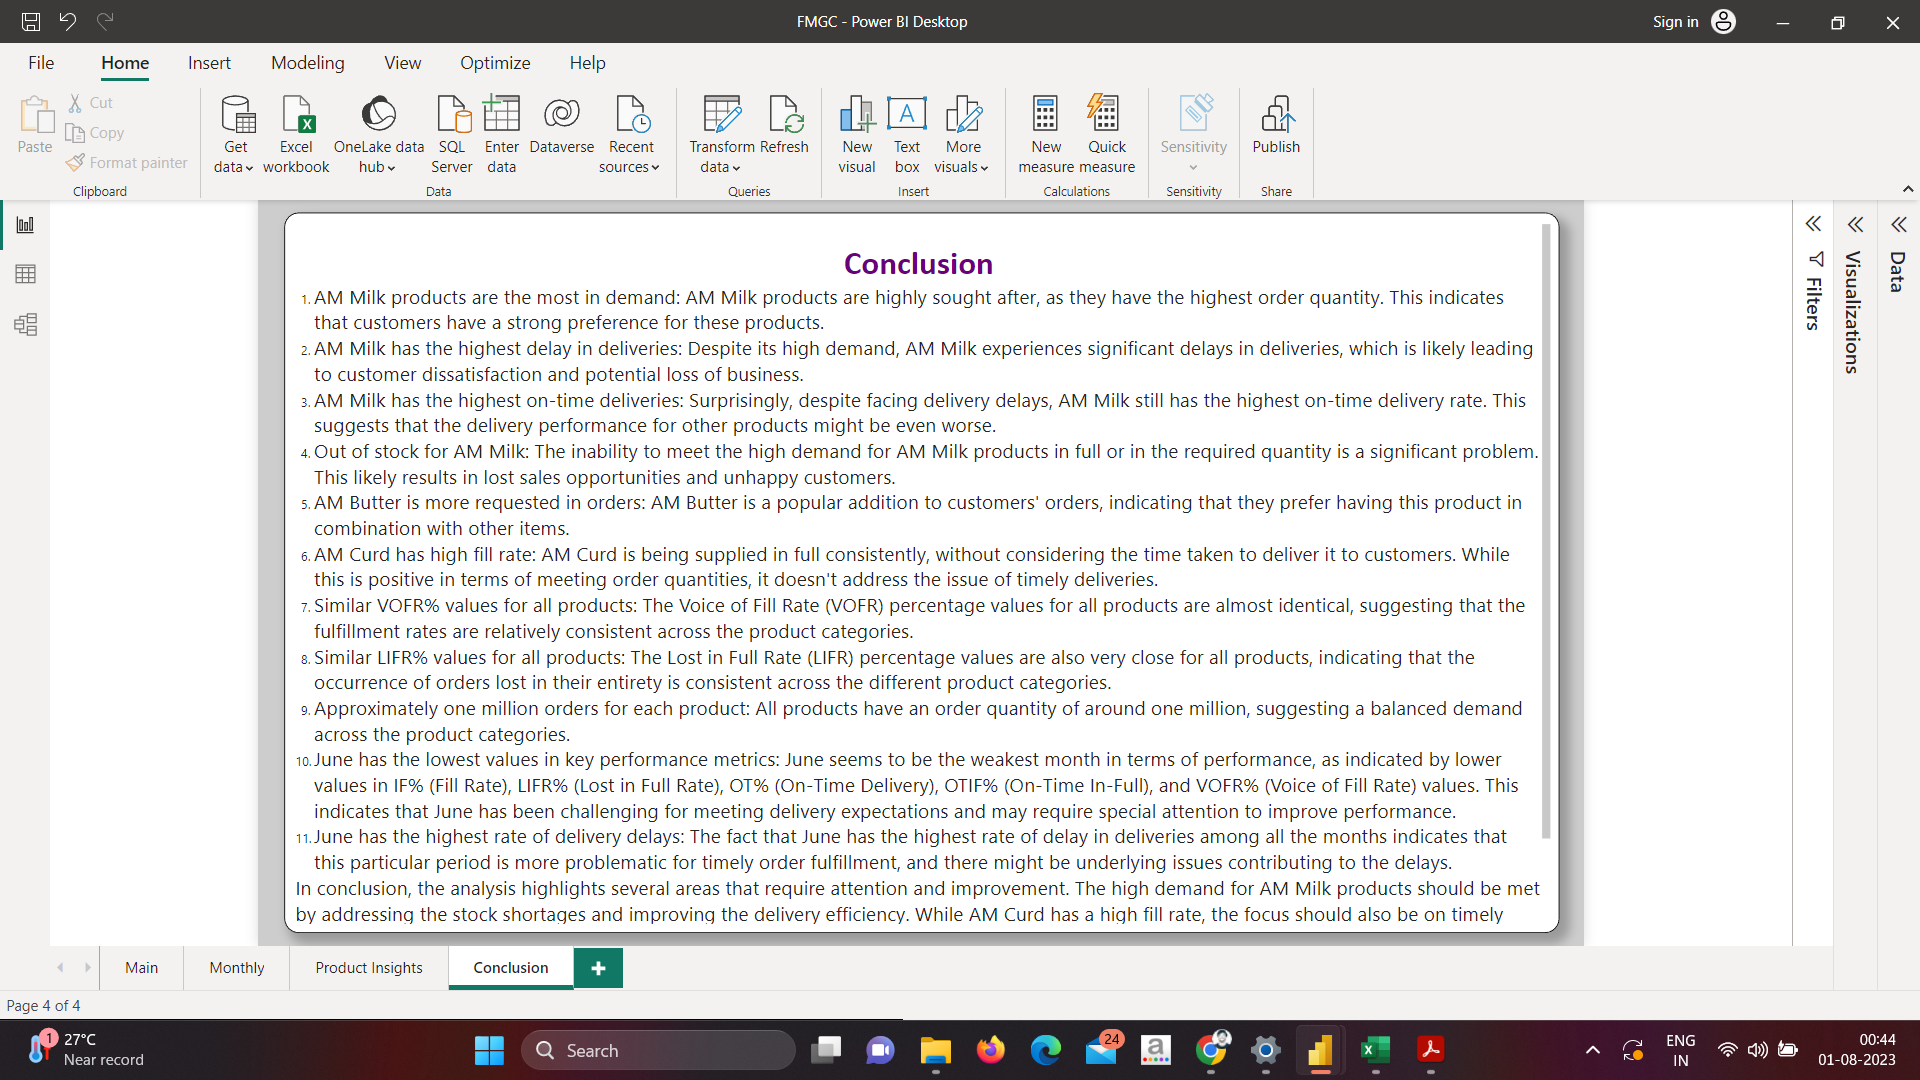

The page's visual inventory and layout, read from the dashboard file:
{"tool":"powerbi","page":{"name":"Conclusion","canvas":[1280,720],"ordinal":3},"visuals":[{"type":"textbox","box":[25.6,12.1,1230.8,695.4],"z":0}]}

Visuals, with their boxes on the page's 1280x720 design canvas (x1, y1, x2, y2). These are canvas units, not pixel positions in the 1920x1080 screenshot, which may show the page scaled, cropped or inside an application window:
textbox: (26, 12, 1256, 708)
